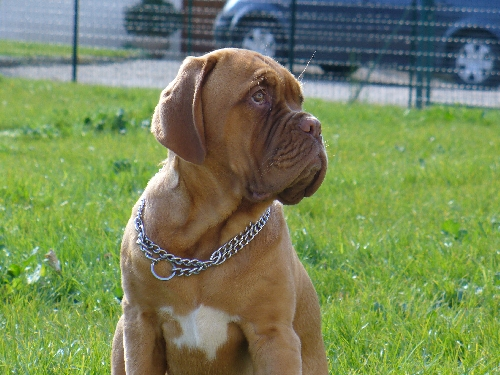dogue_de_bordeaux: (109, 48, 329, 375)
